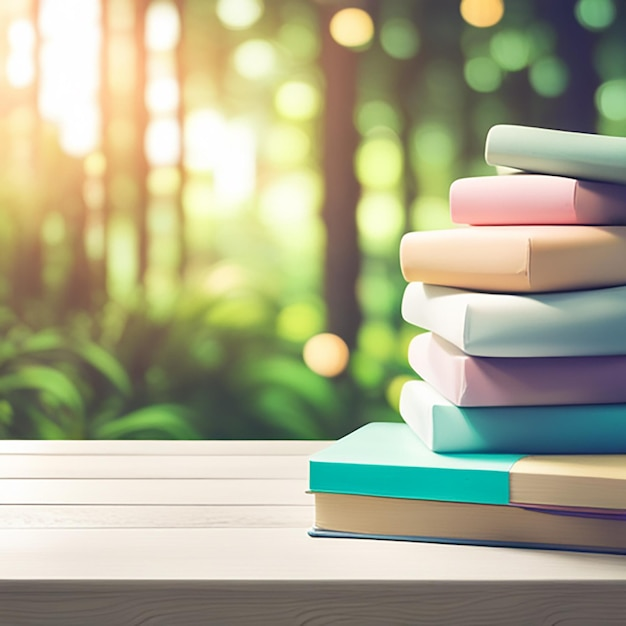book: (364, 69, 626, 626)
